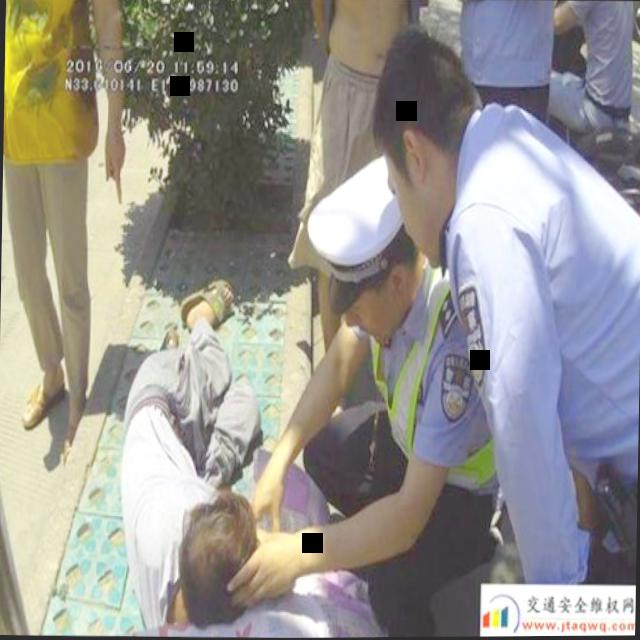Fall-Detected: (105, 257, 269, 636)
